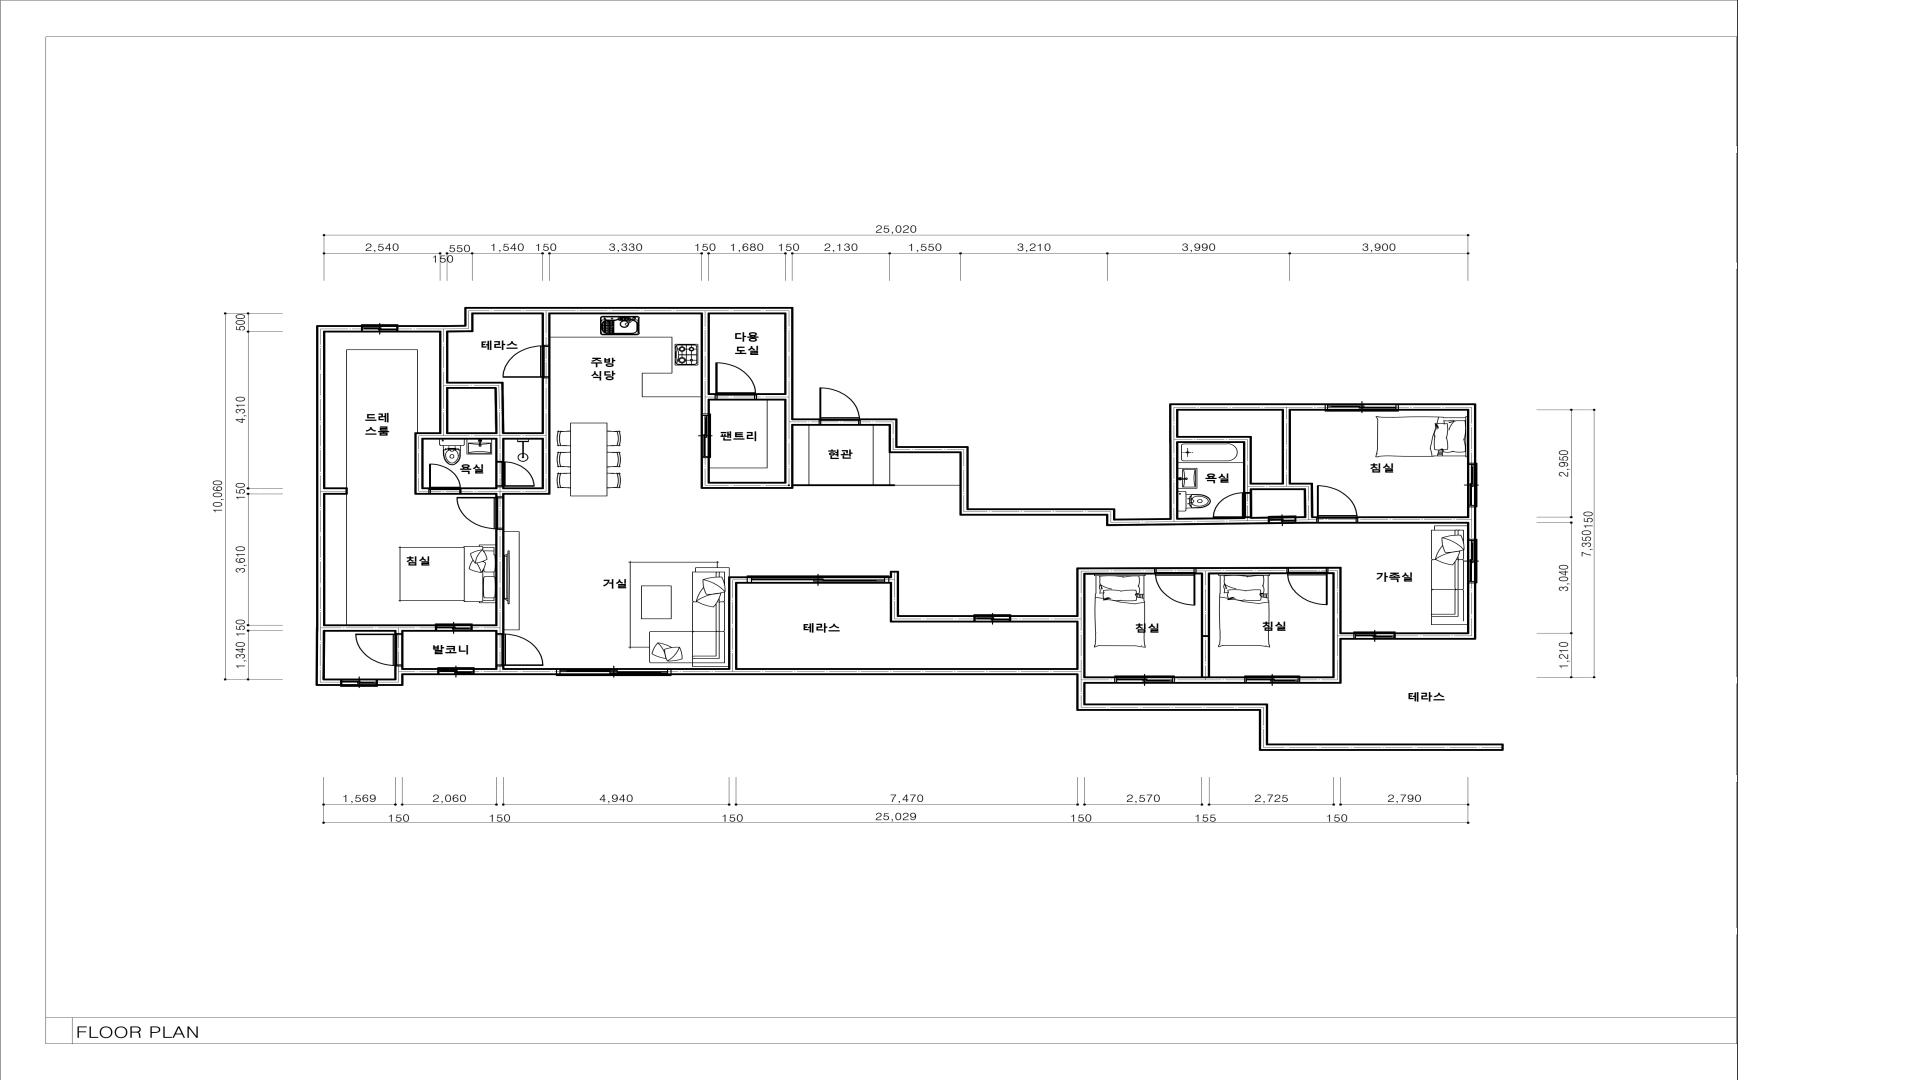door: (715, 363, 757, 401), (1316, 485, 1358, 524), (1154, 567, 1196, 605), (495, 633, 543, 666), (356, 633, 404, 666), (456, 496, 504, 529), (502, 344, 550, 377), (1287, 567, 1328, 605), (819, 388, 860, 426), (429, 464, 462, 495), (495, 462, 534, 487), (1213, 492, 1253, 517), (700, 413, 709, 458), (1267, 517, 1296, 524)
wall: (860, 404, 1325, 526), (398, 307, 819, 426), (414, 332, 550, 497), (315, 326, 361, 686), (1178, 411, 1316, 524), (1011, 567, 1155, 669), (1196, 567, 1287, 676), (671, 669, 1114, 684), (700, 426, 794, 489), (1395, 583, 1477, 640), (1399, 404, 1477, 463), (890, 571, 975, 622), (472, 529, 505, 633), (1300, 632, 1353, 684), (728, 576, 746, 669), (700, 314, 715, 414), (326, 624, 435, 634), (377, 669, 438, 686), (1328, 567, 1342, 633), (1178, 517, 1269, 525), (1358, 517, 1466, 524), (1175, 676, 1245, 684), (475, 669, 556, 675), (1466, 508, 1477, 539), (542, 314, 551, 345), (757, 393, 785, 401), (326, 487, 348, 495), (495, 666, 505, 669)
window: (746, 576, 890, 584), (556, 669, 671, 675), (1324, 404, 1399, 411), (1114, 676, 1175, 684), (1466, 463, 1477, 508), (1466, 539, 1477, 583), (1244, 676, 1300, 684), (1353, 632, 1395, 640), (973, 615, 1011, 622), (435, 624, 472, 632), (340, 679, 378, 686), (438, 669, 475, 675), (361, 326, 398, 332)
